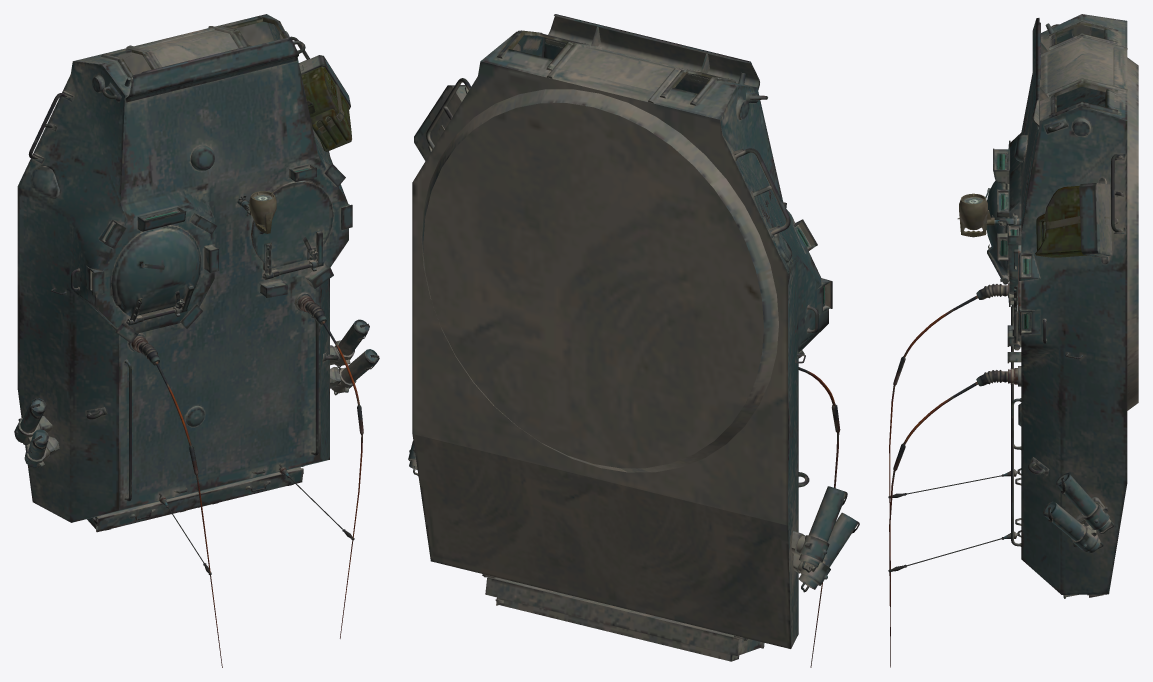
Rendered from Turret_01.glb.
3 renders of one model, left to right at view 1: azimuth 30°, elevation 25°; view 2: azimuth 150°, elevation 25°; view 3: azimuth 270°, elevation 25°, orthographic. The views are drawn at different scales.
Visible parts, largest first — view 1: set_0_group_0; view 2: set_0_group_0; view 3: set_0_group_0.
Part boxes in pixels (left/top/right/bottom): set_0_group_0: left=14, top=14, right=379, bottom=667; set_0_group_0: left=408, top=14, right=859, bottom=667; set_0_group_0: left=888, top=14, right=1138, bottom=667.
Bounding box in the file's own units: 2.18 × 3.28 × 1.29.
1 material, 1 textured.
